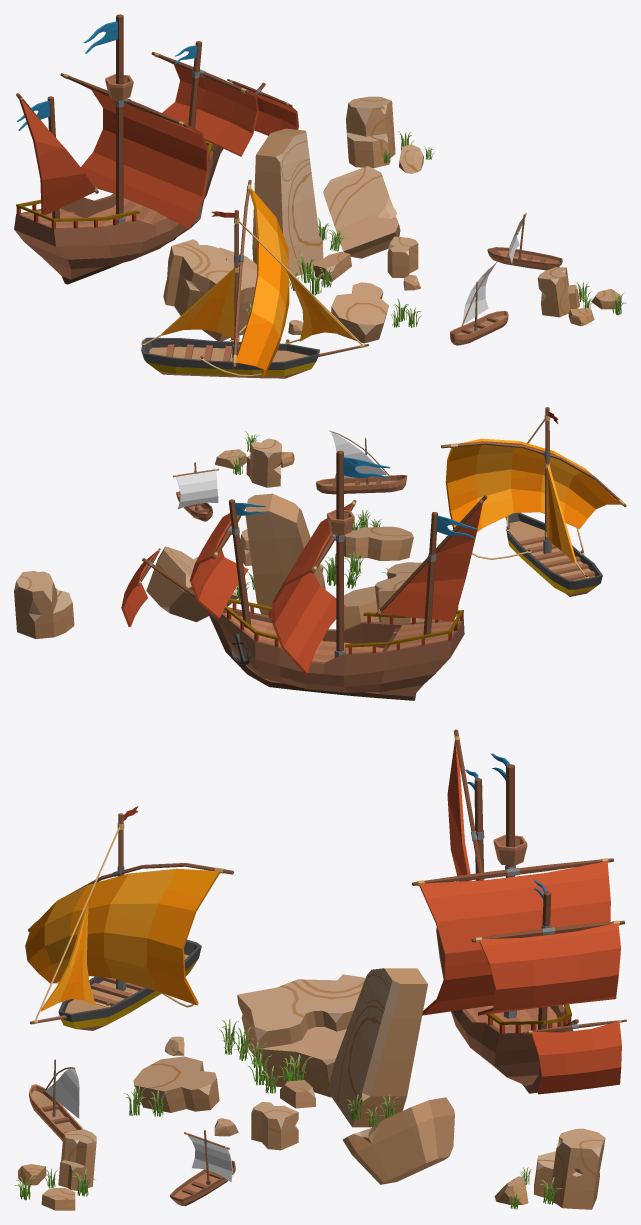
File: field_07.glb
3 views of the same model, one above another, from view 1: azimuth 30°, elevation 25°; view 2: azimuth 150°, elevation 25°; view 3: azimuth 270°, elevation 25° (orthographic). The views are drawn at different scales.
Parts seen in each view (by area): view 1: ship 6_17, ship 2_16, ancient stone 13_0, ancient stone 10_37, ancient stone 12_26, ancient stone 8_30, ancient stone 11_31, sailboat_1, ancient stone 7_14, sailboat 2_9, ancient stone 9_10, ancient stone_36 (+1 smaller); view 2: ship 6_17, ship 2_16, ancient stone 13_0, ancient stone 8_30, ancient stone 10_37, ancient stone 12_26, sailboat_1, ancient stone 11_31, sailboat 2_9, ancient stone 7_14, ancient stone 4_22; view 3: ship 6_17, ship 2_16, ancient stone 13_0, ancient stone 12_26, ancient stone 10_37, ancient stone 8_30, ancient stone 11_31, sailboat_1, sailboat 2_9, ancient stone 9_10, ancient stone 7_14, ancient stone_36 (+2 smaller).
Boxes of the visible parts, x1,y1,x2,y2 form: ship 6_17: [14, 14, 298, 284]; ship 2_16: [141, 180, 368, 378]; ancient stone 13_0: [252, 128, 323, 276]; ancient stone 10_37: [323, 166, 400, 258]; ancient stone 12_26: [163, 239, 256, 341]; ancient stone 8_30: [346, 96, 395, 168]; ancient stone 11_31: [331, 282, 388, 343]; sailboat_1: [450, 262, 508, 345]; ancient stone 7_14: [537, 267, 579, 317]; sailboat 2_9: [487, 213, 562, 270]; ancient stone 9_10: [387, 236, 418, 277]; ancient stone_36: [313, 251, 351, 281]; ship 6_17: [121, 450, 487, 700]; ship 2_16: [441, 407, 626, 596]; ancient stone 13_0: [245, 493, 325, 615]; ancient stone 8_30: [14, 571, 74, 638]; ancient stone 10_37: [146, 546, 238, 622]; ancient stone 12_26: [344, 562, 458, 629]; sailboat_1: [316, 430, 407, 494]; ancient stone 11_31: [344, 526, 413, 560]; sailboat 2_9: [173, 462, 219, 521]; ancient stone 7_14: [246, 438, 281, 487]; ancient stone 4_22: [215, 449, 246, 469]; ship 6_17: [412, 729, 626, 1094]; ship 2_16: [25, 806, 233, 1030]; ancient stone 13_0: [327, 968, 427, 1127]; ancient stone 12_26: [237, 974, 365, 1097]; ancient stone 10_37: [342, 1097, 454, 1184]; ancient stone 8_30: [534, 1128, 605, 1209]; ancient stone 11_31: [133, 1056, 219, 1112]; sailboat_1: [29, 1059, 82, 1140]; sailboat 2_9: [170, 1130, 235, 1206]; ancient stone 9_10: [251, 1102, 298, 1150]; ancient stone 7_14: [58, 1129, 96, 1191]; ancient stone_36: [280, 1080, 315, 1108].
Size of the model in its own units: 16.35 by 9.06 by 16.5.
1 material, 1 textured.
